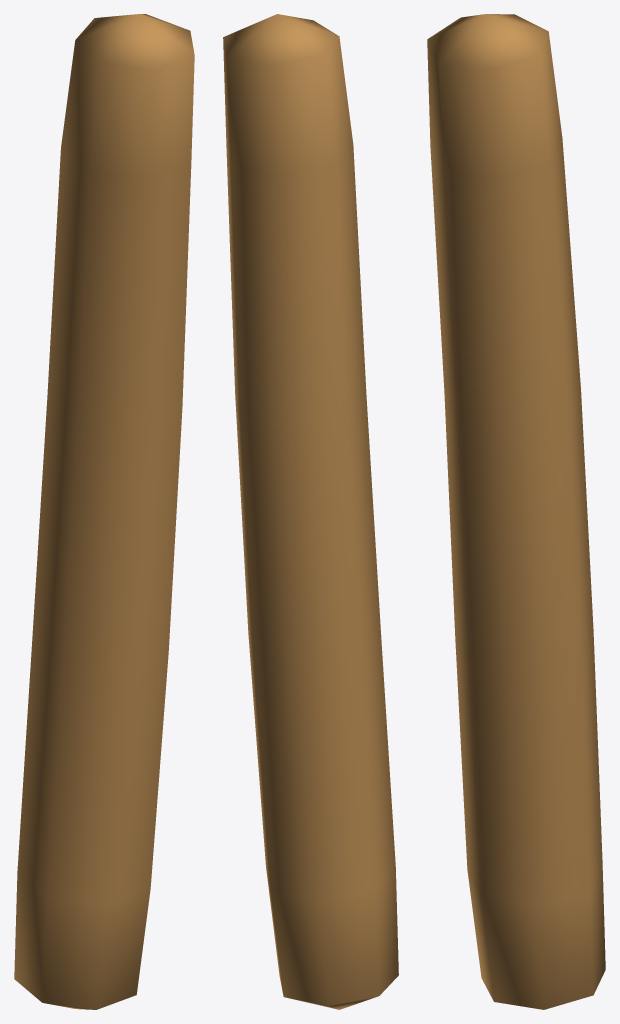
File: tarsus_T1_right_leg.obj
3 views of the same model, side by side, from view 1: azimuth 30°, elevation 25°; view 2: azimuth 210°, elevation 25°; view 3: azimuth 270°, elevation 25° (orthographic). The views are drawn at different scales.
Size of the model in its own units: 0.00399 by 0.0284 by 0.00454.
